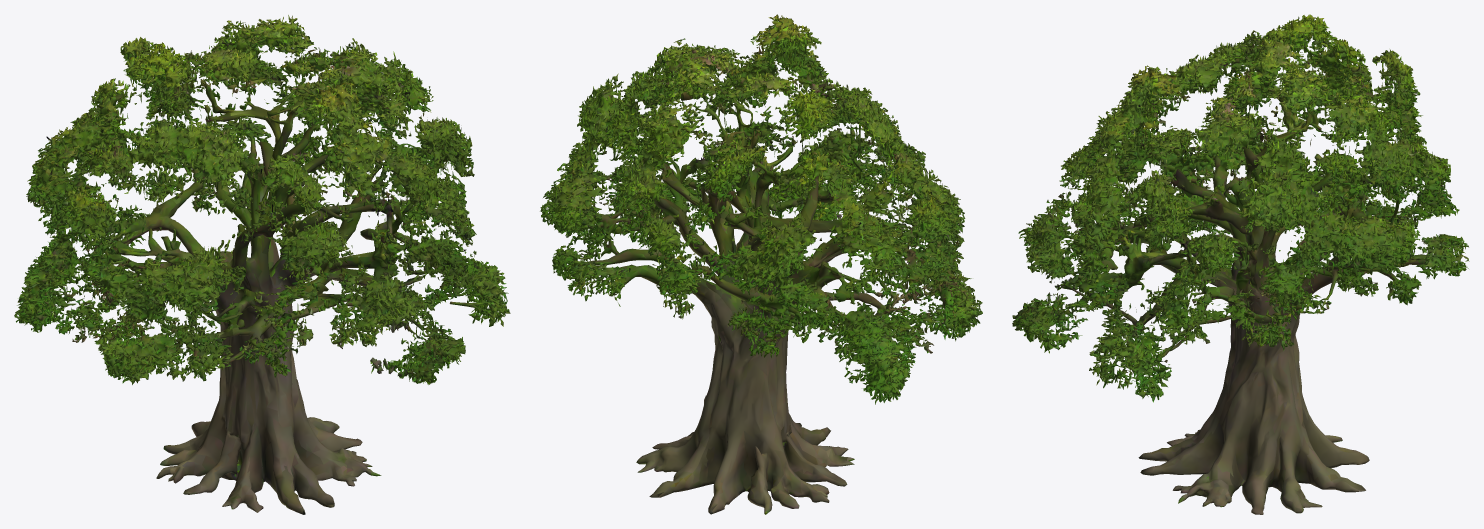
The model's file is Meshy_AI_tree_1016232222_texture.fbx.
3 renders of one model, left to right at view 1: azimuth 30°, elevation 25°; view 2: azimuth 150°, elevation 25°; view 3: azimuth 270°, elevation 25°, orthographic.
Parts seen in each view (by area): view 1: Mesh_0; view 2: Mesh_0; view 3: Mesh_0.
Part boxes in pixels (x1,y1,x2,y2): Mesh_0: (14,15,510,514); Mesh_0: (540,14,982,514); Mesh_0: (1012,14,1469,514).
Size of the model in its own units: 189 by 199 by 195.
1 material, 1 textured.
